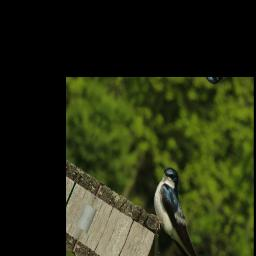Swallow: (136, 163, 229, 256)
